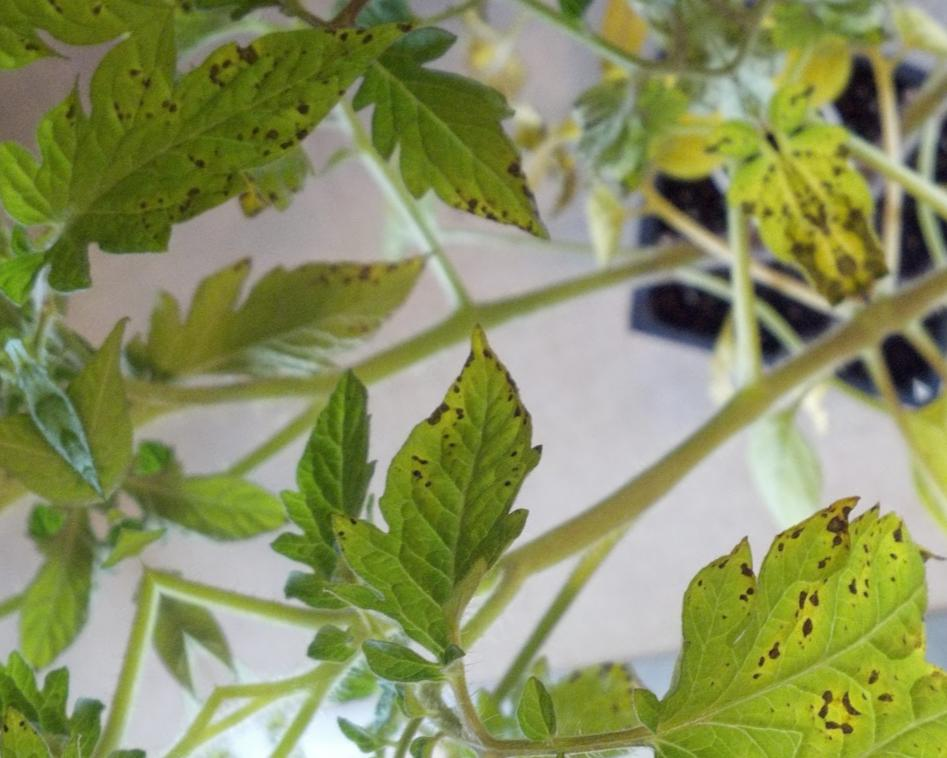Tomato Septoria leaf spot: (250, 299, 638, 706), (0, 0, 477, 314), (585, 427, 947, 758), (309, 0, 612, 306), (695, 128, 873, 350)
